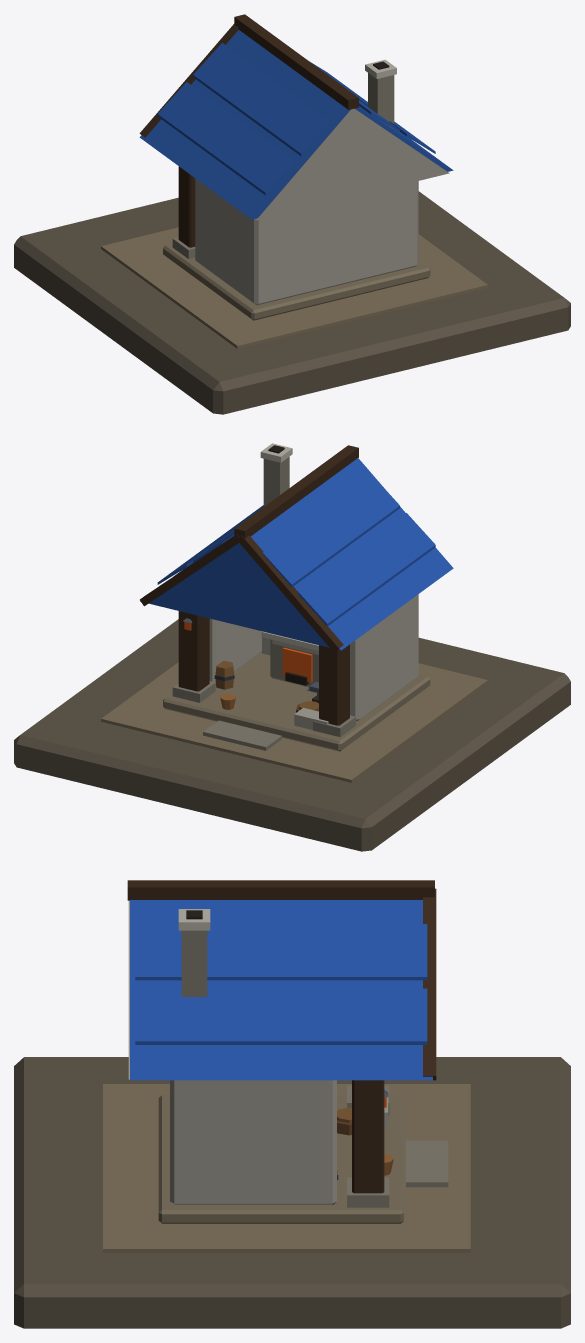
Rendered from 铁匠铺_1星.glb.
3 renders of one model, top to bottom at view 1: azimuth 30°, elevation 25°; view 2: azimuth 150°, elevation 25°; view 3: azimuth 270°, elevation 25°, orthographic. The views are drawn at different scales.
Visible parts, largest first — view 1: 铁匠铺_1星; view 2: 铁匠铺_1星; view 3: 铁匠铺_1星.
Boxes of the visible parts, x1,y1,x2,y2 form: 铁匠铺_1星: [14, 14, 570, 414]; 铁匠铺_1星: [14, 443, 570, 851]; 铁匠铺_1星: [14, 880, 570, 1328].
Size of the model in its own units: 1 by 0.6568 by 1.
